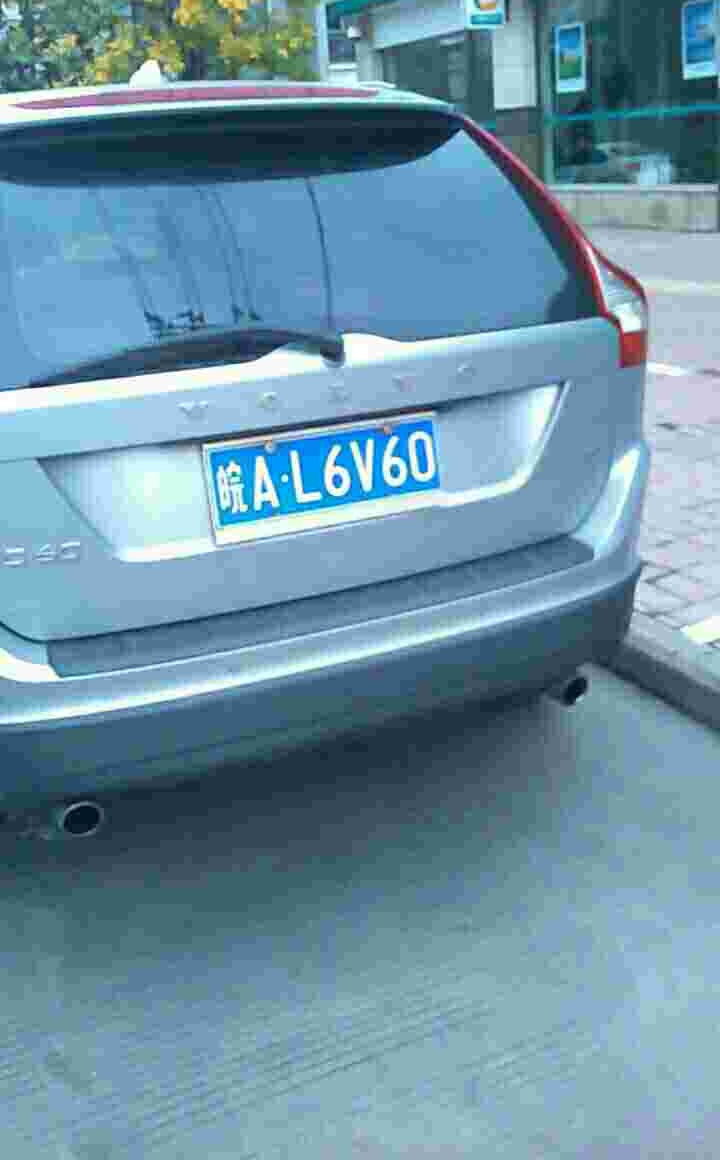license_plate: (208, 411, 441, 537)
